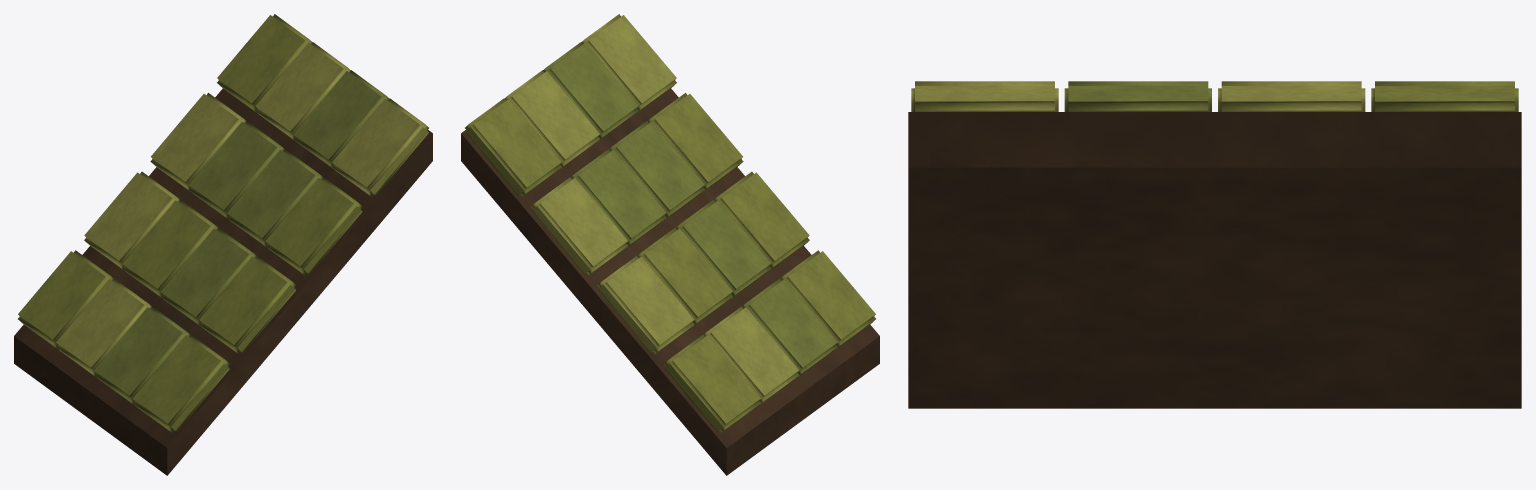
Rendered from roof-slope-3.fbx.
3 views of the same model, side by side, from view 1: azimuth 30°, elevation 25°; view 2: azimuth 150°, elevation 25°; view 3: azimuth 270°, elevation 25° (orthographic). The views are drawn at different scales.
Visible parts, largest first — view 1: roof-slope-3__Geometry; view 2: roof-slope-3__Geometry; view 3: roof-slope-3__Geometry.
Boxes of the visible parts, left/top/right/bottom form: roof-slope-3__Geometry: left=14, top=14, right=432, bottom=475; roof-slope-3__Geometry: left=461, top=14, right=879, bottom=475; roof-slope-3__Geometry: left=908, top=81, right=1521, bottom=408.
Bounding box in the file's own units: 1 × 1.04 × 1.
1 material, 1 textured.
